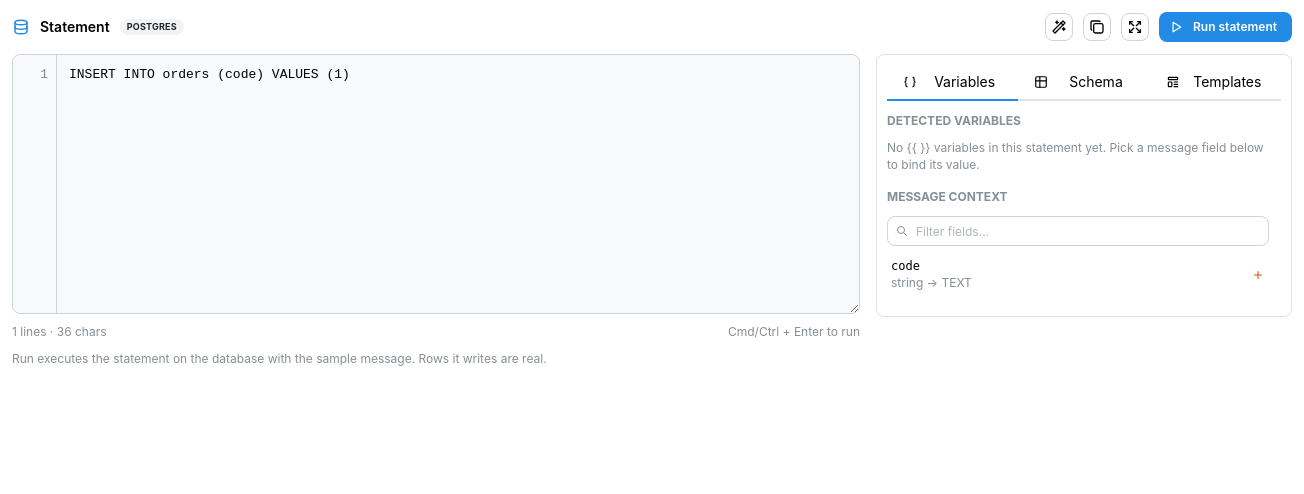
Scenario: SQL builder workspace › tells a write that returned nothing apart from a query that found nothing
Click the button "Run statement".
click(1225, 27)  # box [1159,12,1292,42]
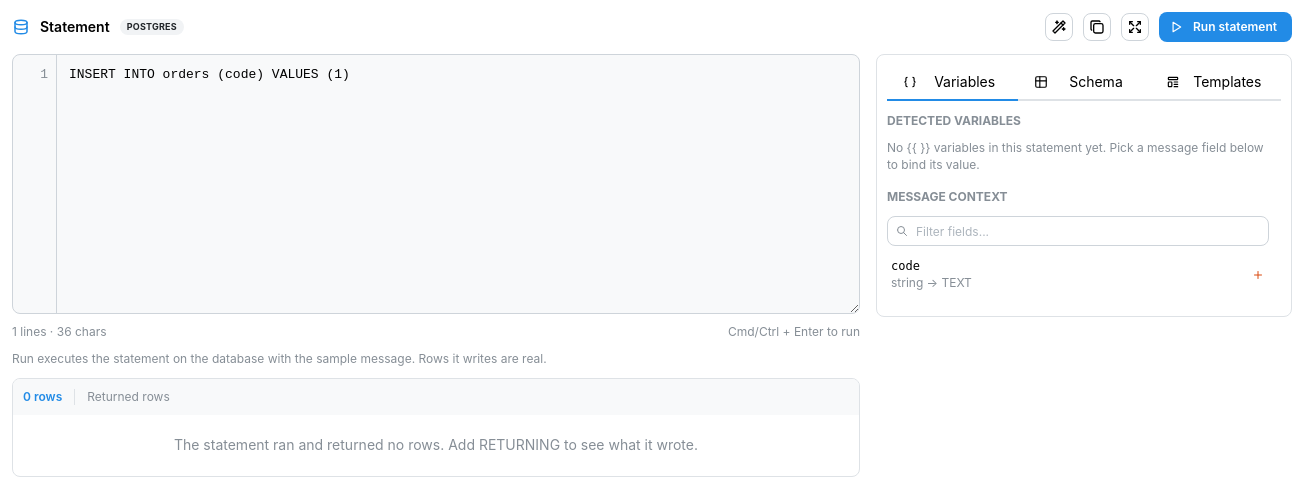
Expected: the element with test id "sql-results" shows "ran and returned no rows", [174,436,698,453]
